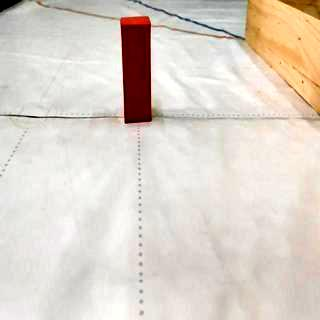redbox: (119, 15, 152, 124)
